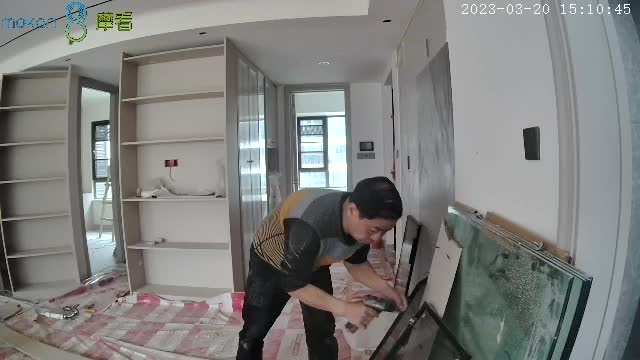people: (234, 175, 407, 360)
window: (297, 114, 349, 192)
